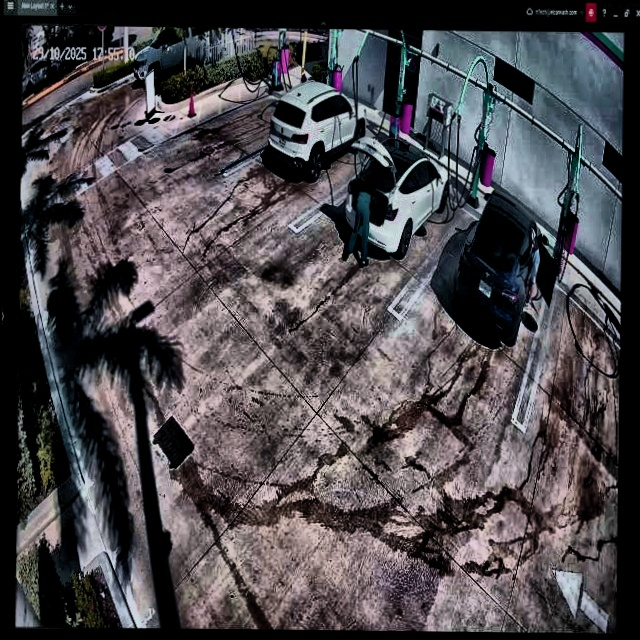Car: (455, 190, 556, 348), (343, 131, 451, 255), (267, 78, 366, 179)
